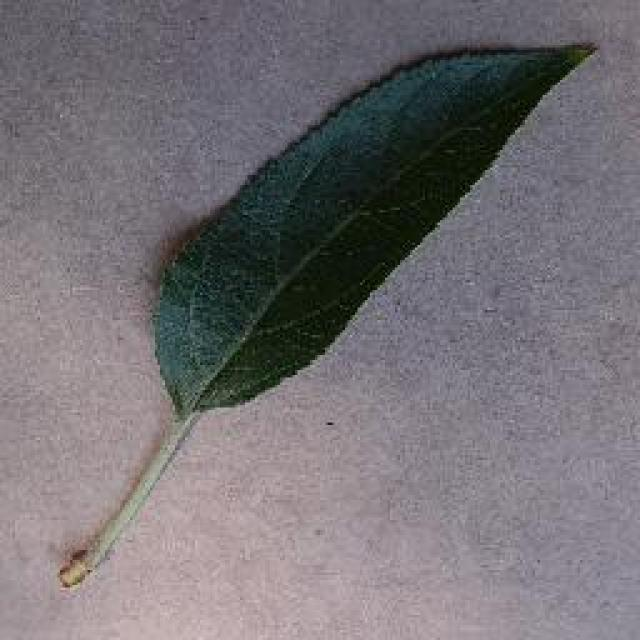apple healthy: (52, 35, 600, 590)
